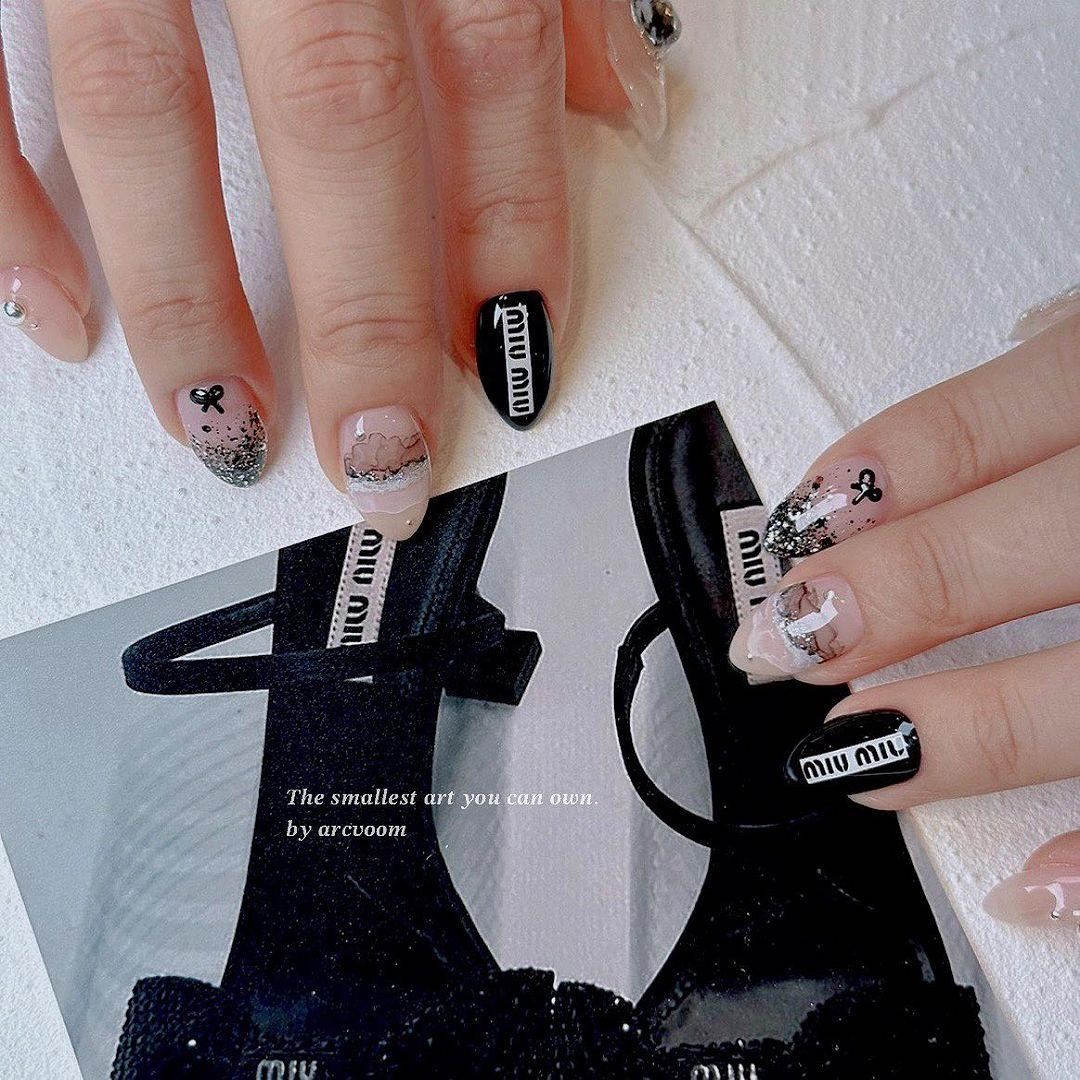nail: (764, 457, 889, 562), (339, 403, 432, 542), (743, 572, 864, 675), (783, 707, 921, 796), (473, 287, 554, 429), (172, 373, 268, 487), (605, 0, 680, 140), (0, 263, 89, 363), (984, 865, 1079, 928)
